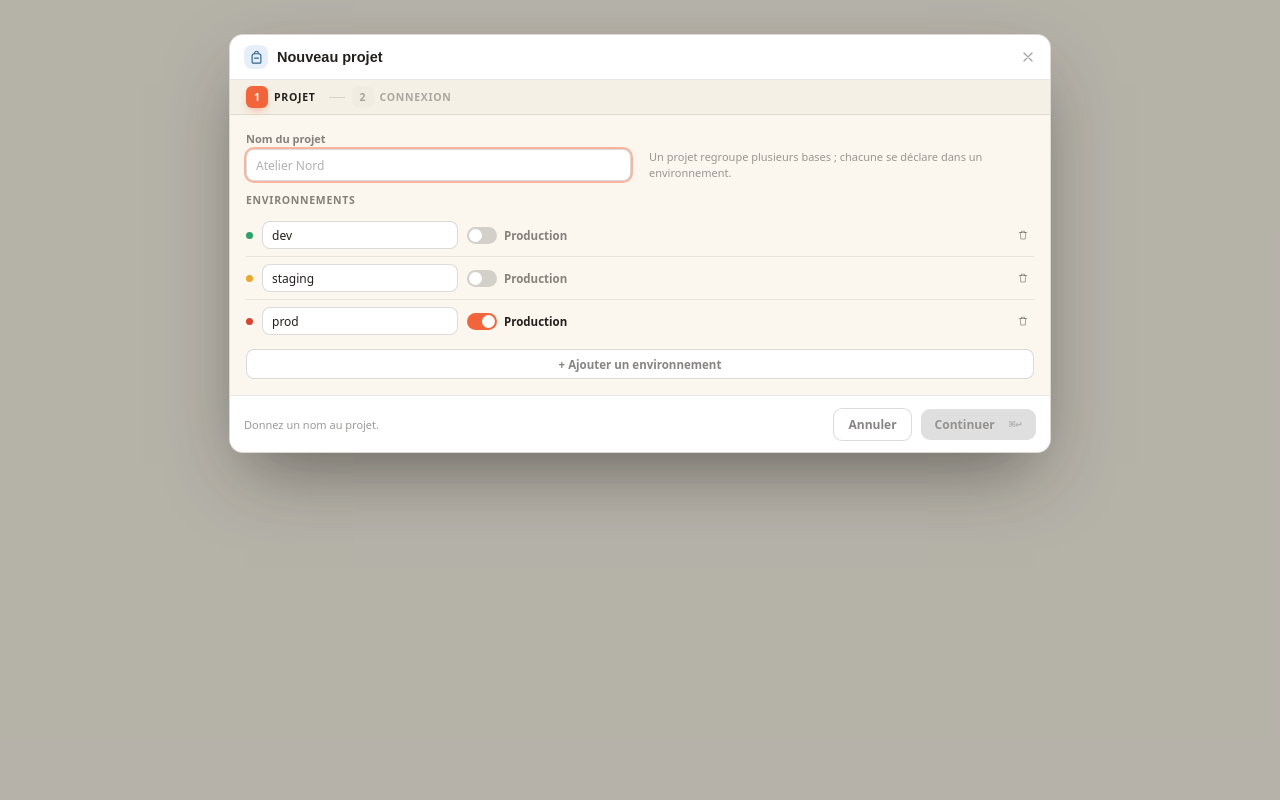
deux libellés identiques sont refusés, en nommant le doublon
In the field labelled "Nom du projet": (438, 165) top-left (246, 149), bottom-right (631, 181), type "Halle"
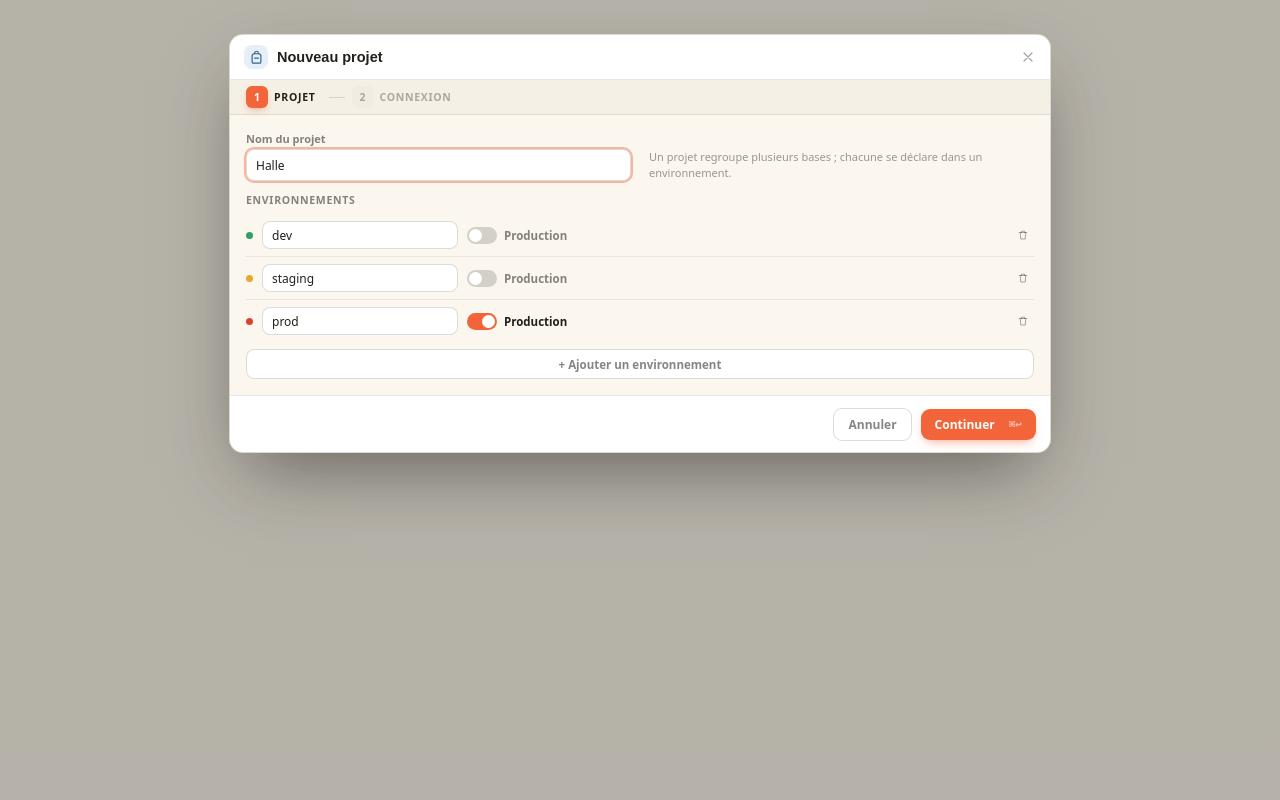
Replace the text in the field named "Libellé de l’environnement 2" with "dev": (360, 278) top-left (262, 264), bottom-right (458, 292)
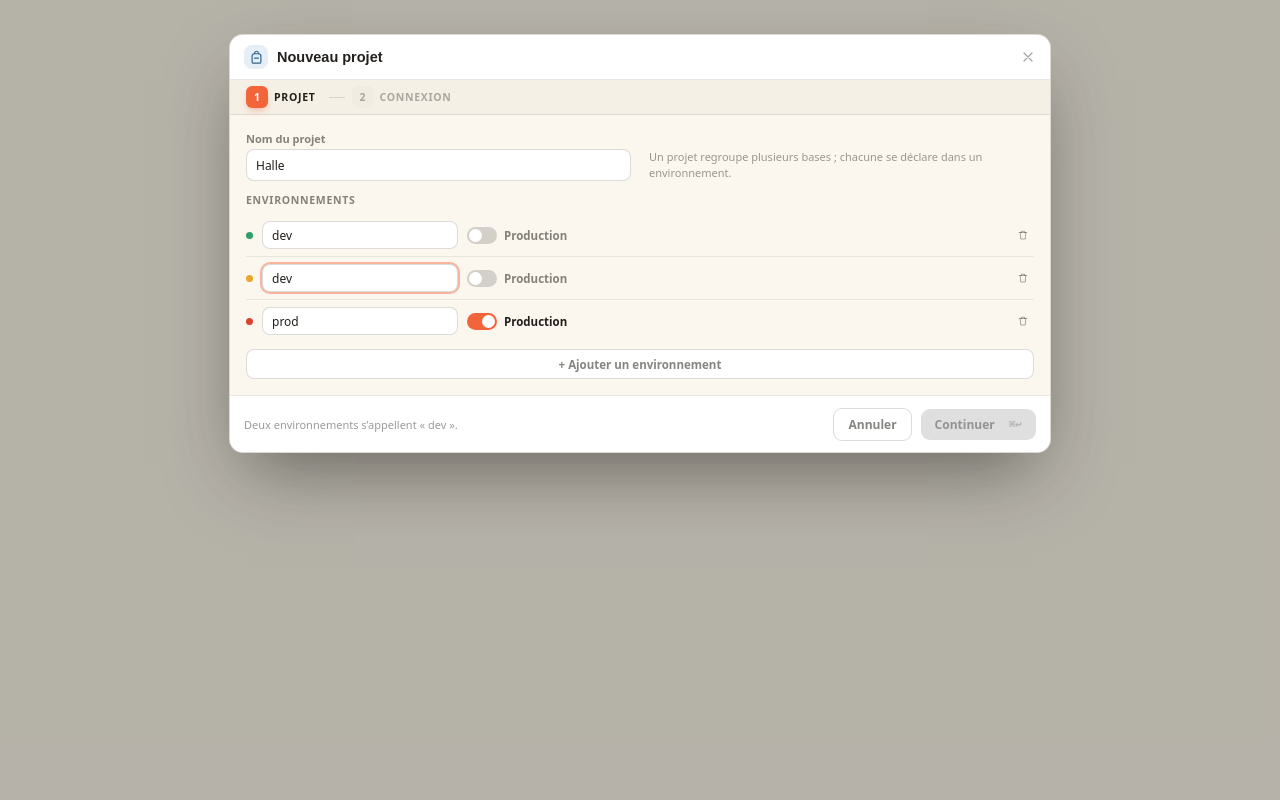
Now the button "Continuer ⌘↩" is disabled, box top-left (921, 408), bottom-right (1036, 440)
Now the message shows "Deux environnements s’appellent « dev »", box top-left (244, 416), bottom-right (458, 432)
